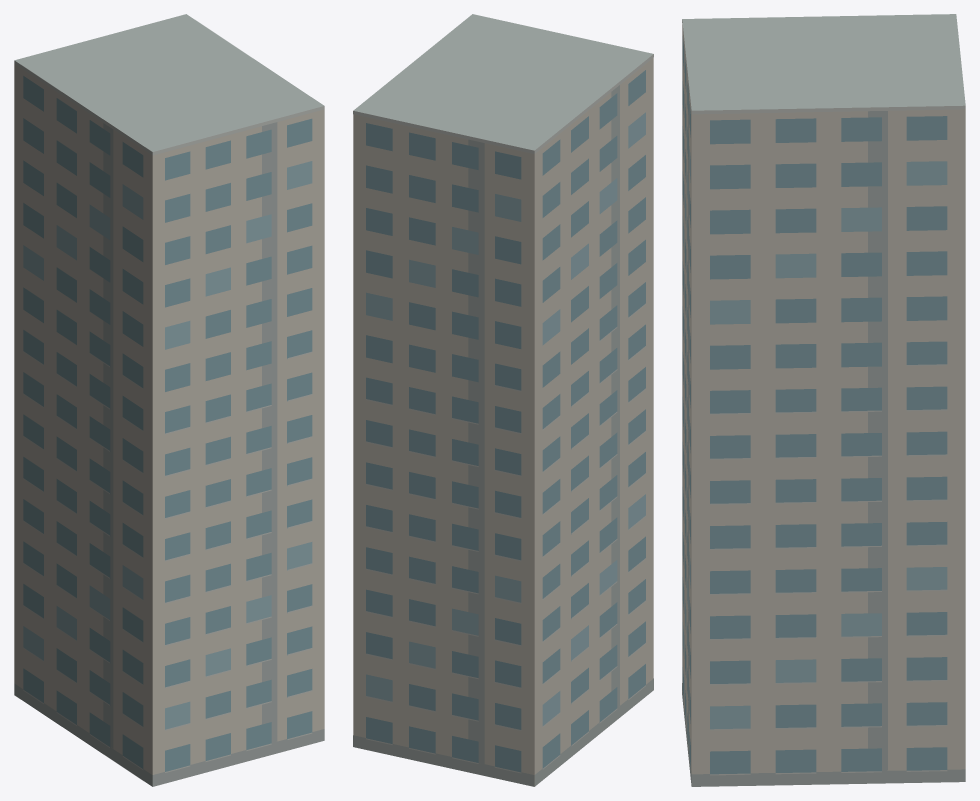
File: residential-cd5c940b-3d00-46c3-b2a8-3f2c05482326.glb
The picture shows the model from 3 angles, left to right: view 1: azimuth 30°, elevation 25°; view 2: azimuth 150°, elevation 25°; view 3: azimuth 270°, elevation 25°; orthographic projection. The views are drawn at different scales.
Parts seen in each view (by area): view 1: residential-cd5c940b-3d00-46c3-b2a8-3f2c05482326.tmp; view 2: residential-cd5c940b-3d00-46c3-b2a8-3f2c05482326.tmp; view 3: residential-cd5c940b-3d00-46c3-b2a8-3f2c05482326.tmp.
Part boxes in pixels (x1,y1,x2,y2): residential-cd5c940b-3d00-46c3-b2a8-3f2c05482326.tmp: (14,14,324,786); residential-cd5c940b-3d00-46c3-b2a8-3f2c05482326.tmp: (353,14,653,786); residential-cd5c940b-3d00-46c3-b2a8-3f2c05482326.tmp: (682,14,965,786).
Size of the model in its own units: 13.81 by 45 by 17.11.
